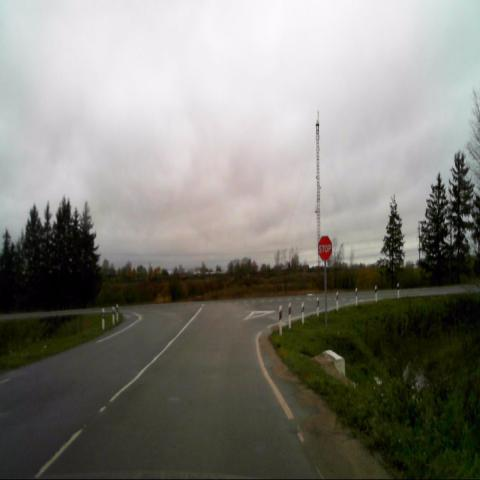2_5: (317, 234, 333, 262)
